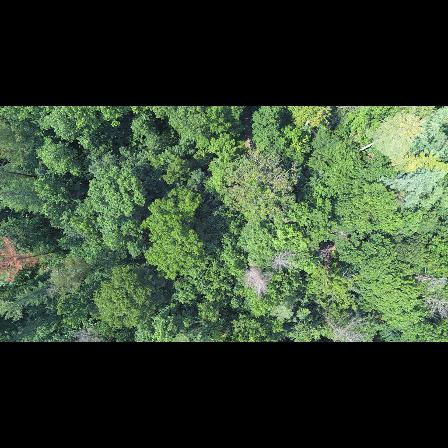Dead: (321, 312, 372, 342), (240, 266, 274, 298), (416, 292, 448, 320), (409, 271, 448, 291), (272, 250, 296, 277)
